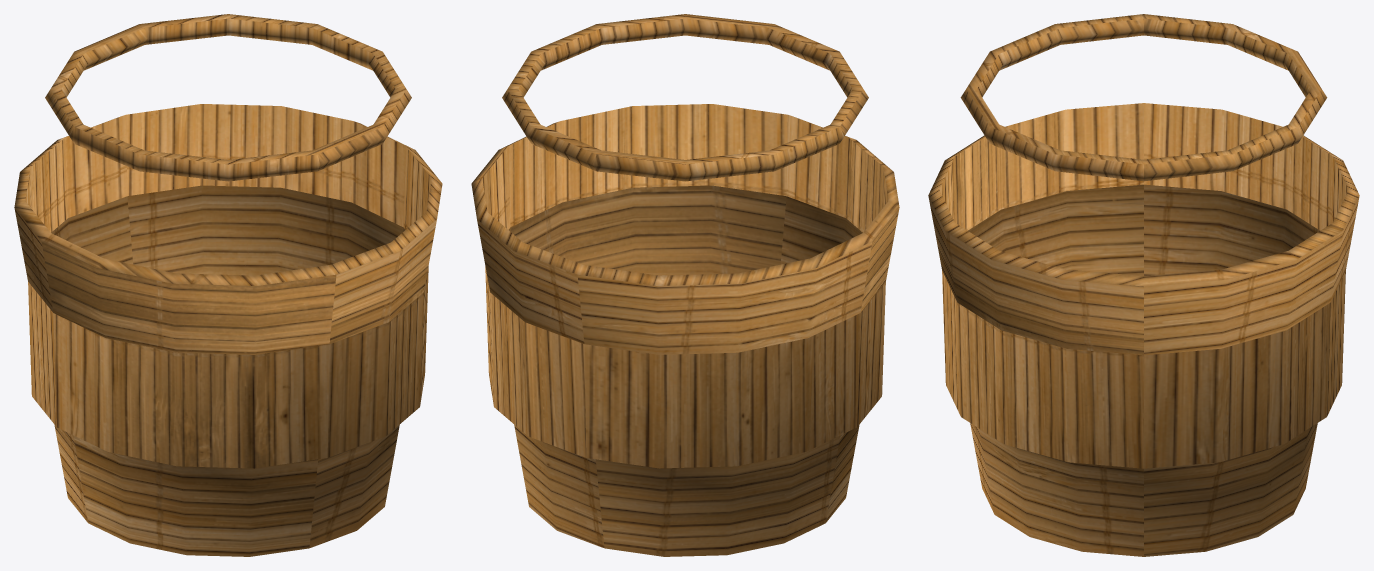
Rendered from basket.glb.
3 views of the same model, side by side, from view 1: azimuth 30°, elevation 25°; view 2: azimuth 150°, elevation 25°; view 3: azimuth 270°, elevation 25° (orthographic).
Parts seen in each view (by area): view 1: basket; view 2: basket; view 3: basket.
Boxes of the visible parts, box(x1,y1,x2,y2) form: basket: box(14, 14, 442, 556); basket: box(471, 14, 899, 556); basket: box(928, 14, 1359, 556).
Size of the model in its own units: 0.2 by 0.2043 by 0.2.
Materials: 1 (1 with a texture image).
